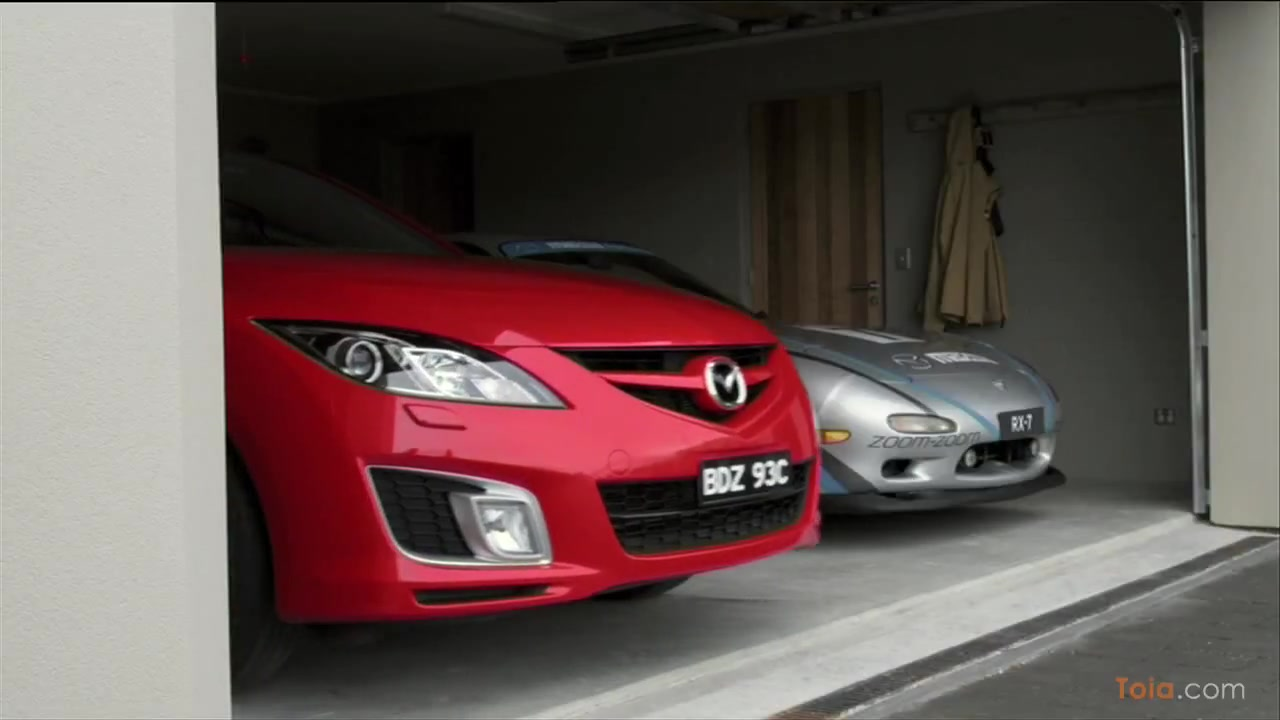car: (222, 141, 823, 693)
